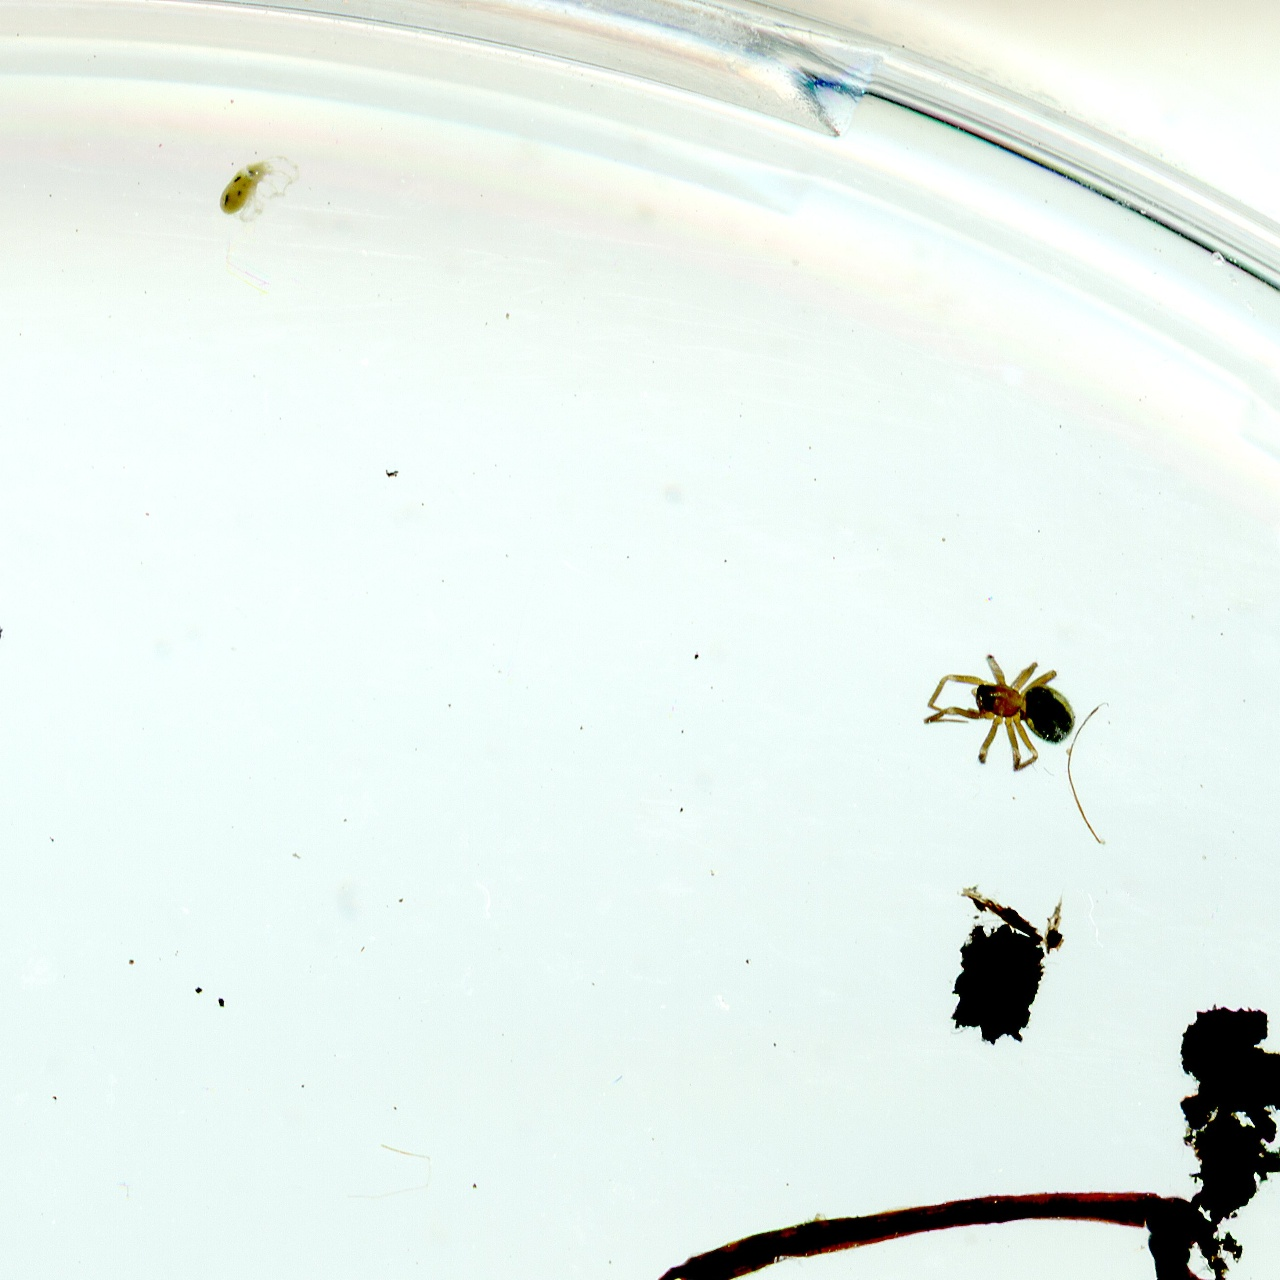arthropod: (917, 652, 1082, 778), (1108, 1214, 1280, 1280), (205, 132, 306, 244), (0, 608, 11, 716)
